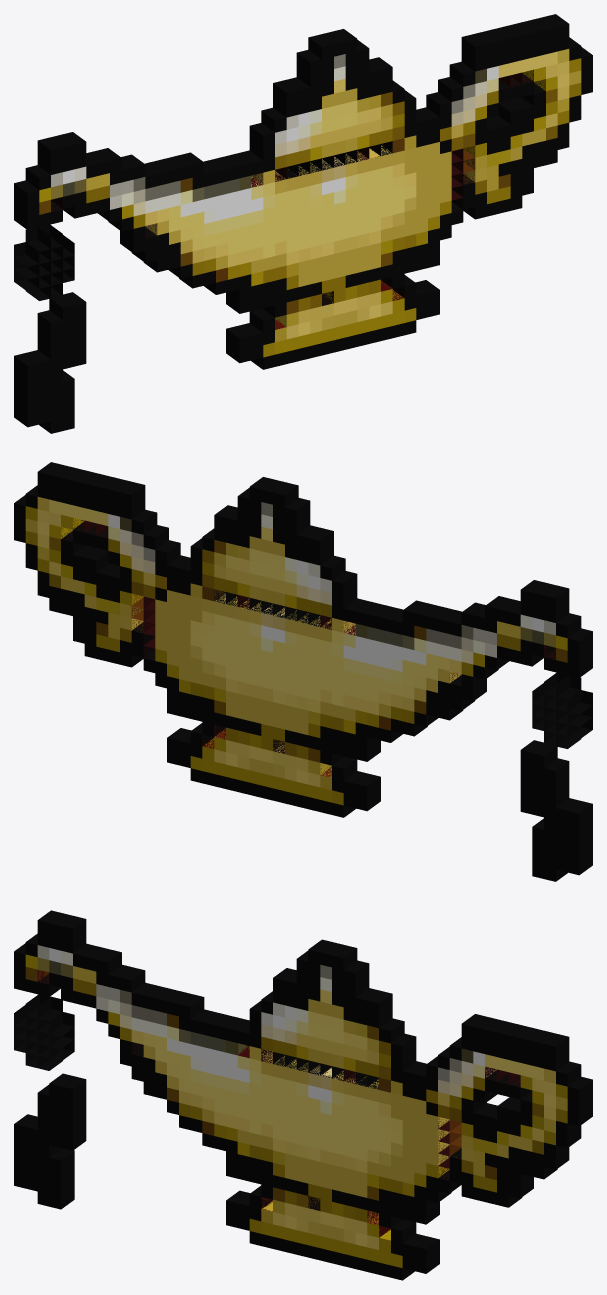
File: LampOil.fbx
3 views of the same model, one above another, from view 1: azimuth 30°, elevation 25°; view 2: azimuth 150°, elevation 25°; view 3: azimuth 330°, elevation 25° (orthographic).
Visible parts, largest first — view 1: lampoil; view 2: lampoil; view 3: lampoil.
Boxes of the visible parts, bbox=[...] form: lampoil: bbox=[14, 14, 592, 433]; lampoil: bbox=[14, 462, 592, 881]; lampoil: bbox=[14, 910, 592, 1280].
Bounding box in the file's own units: 4700 × 2546 × 196.
